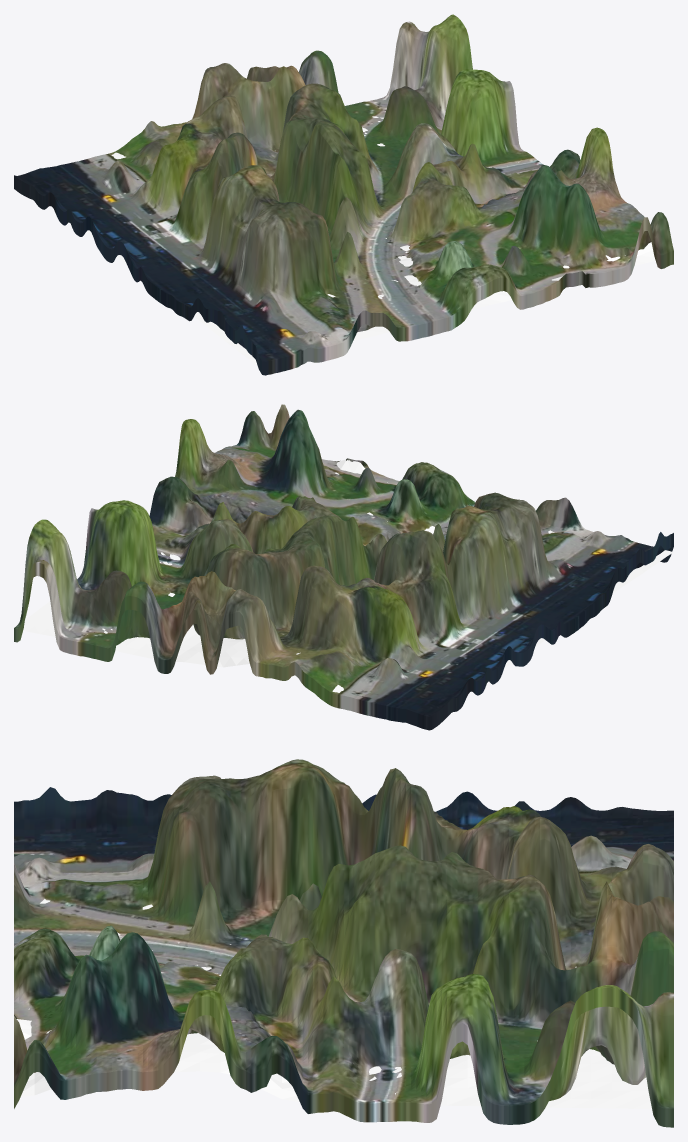
3 renders of one model, top to bottom at view 1: azimuth 30°, elevation 25°; view 2: azimuth 150°, elevation 25°; view 3: azimuth 270°, elevation 25°, orthographic. The views are drawn at different scales.
Visible parts, largest first — view 1: surface, ground; view 2: surface, ground; view 3: surface, ground.
Part boxes in pixels (left/top/right/bottom): surface: left=14, top=14, right=673, bottom=375; ground: left=85, top=116, right=655, bottom=364; surface: left=14, top=404, right=673, bottom=730; ground: left=23, top=459, right=673, bottom=692; surface: left=14, top=759, right=673, bottom=1127; ground: left=16, top=899, right=651, bottom=1109.
Bounding box in the file's own units: 128 × 32.71 × 128.
2 materials, 1 textured.
